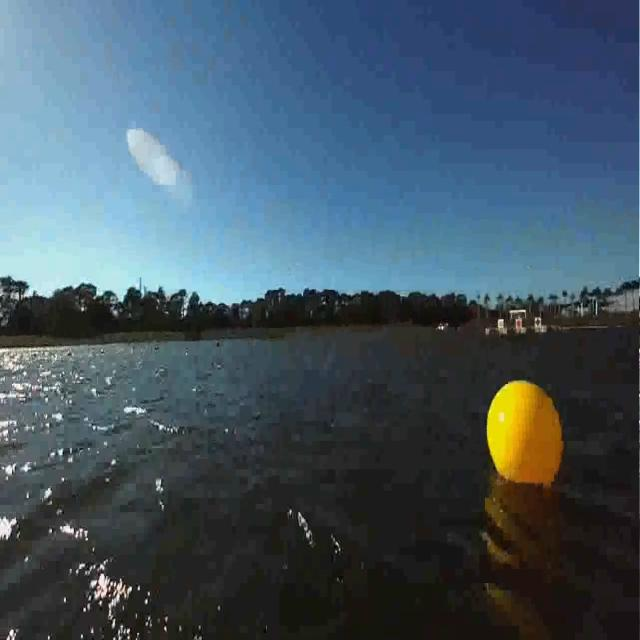yellow-buoy: (483, 376, 565, 490)
